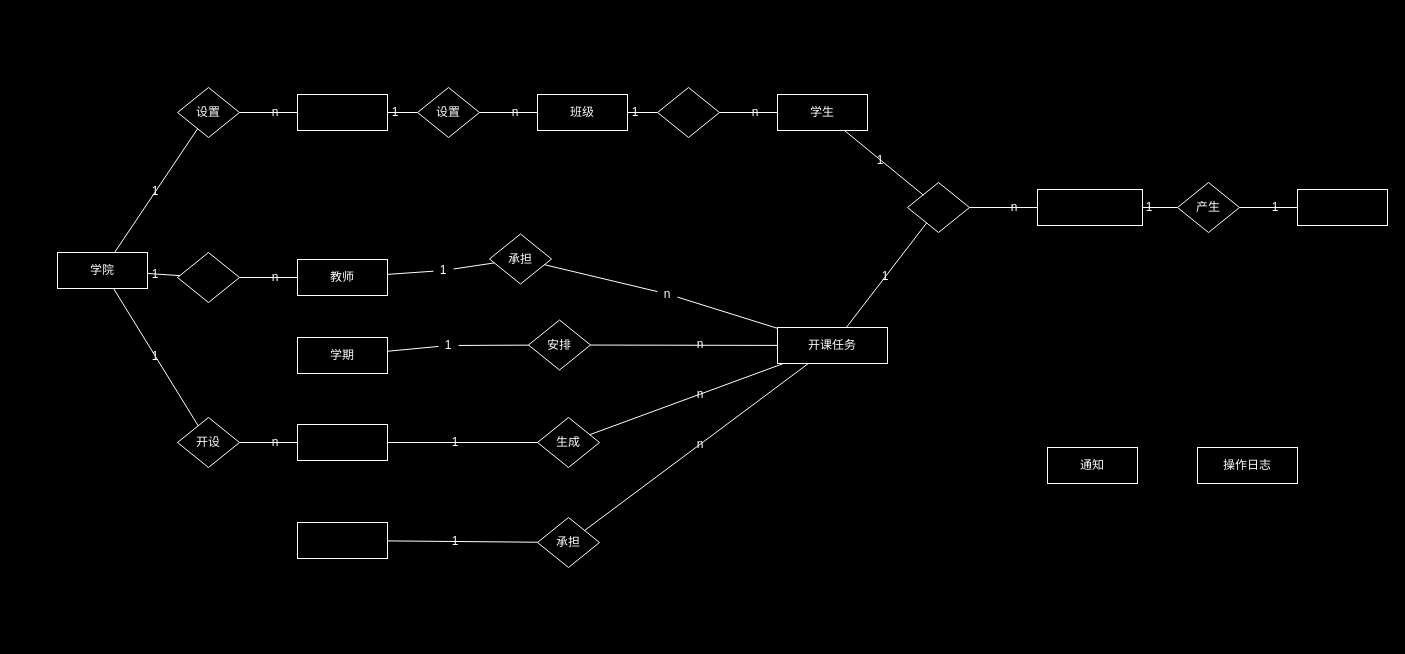
The diagram is 1405 pixels wide and 654 high, and some of its shapes have lost their labels. Here are the shapes that lost their labels. From the top down, the centre of each, then its label:
At point (342, 112): "专业".
At point (688, 112): "包含".
At point (938, 207): "选择".
At point (1089, 207): "选课记录".
At point (1342, 207): "成绩".
At point (208, 277): "管理".
At point (342, 442): "课程".
At point (342, 540): "教室".
